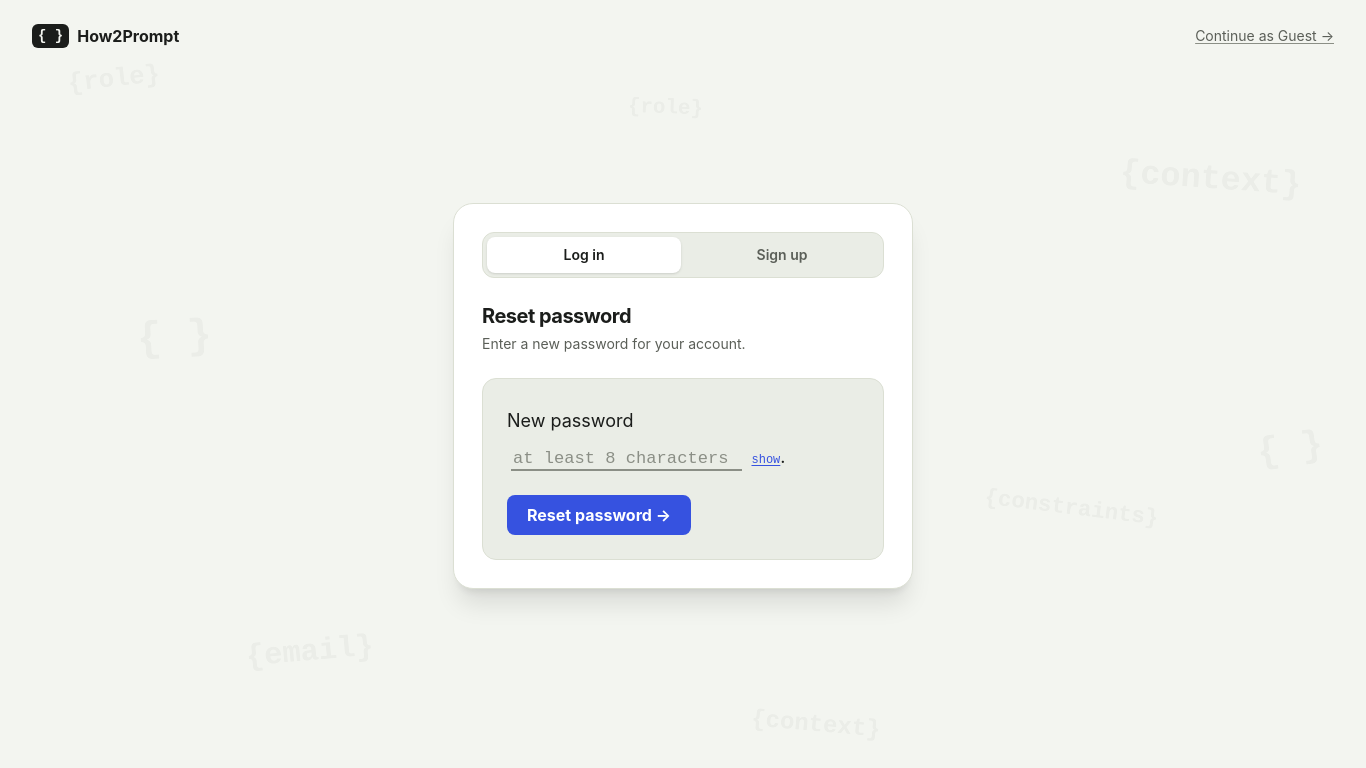
Scenario: ResetPasswordPage › resets the password with a valid token and redirects to /login with a success message
Step 1. Type "newpassword123" into the password field with placeholder "at least 8 characters" → (627, 460), box [511,448,742,471]
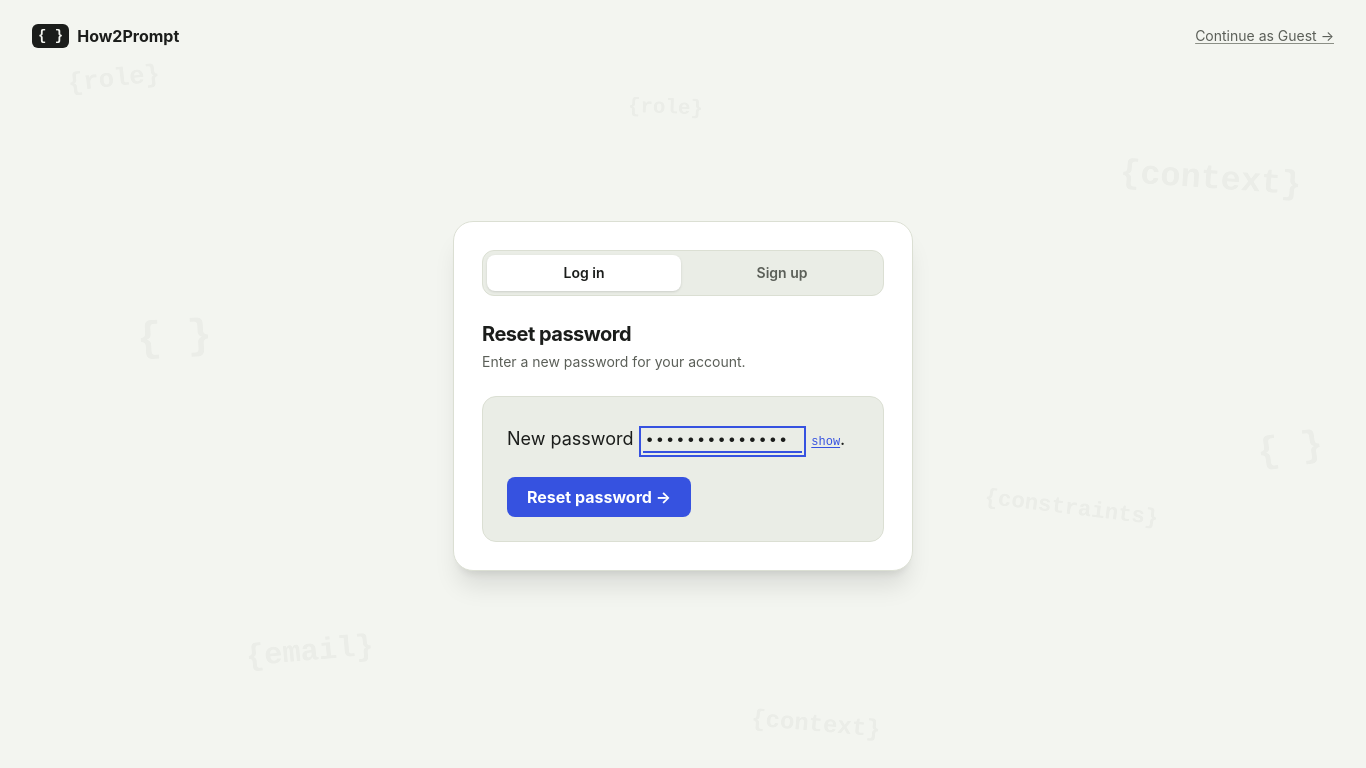
Step 2. Click the button "Reset password →" → (599, 497), box [507,477,691,517]
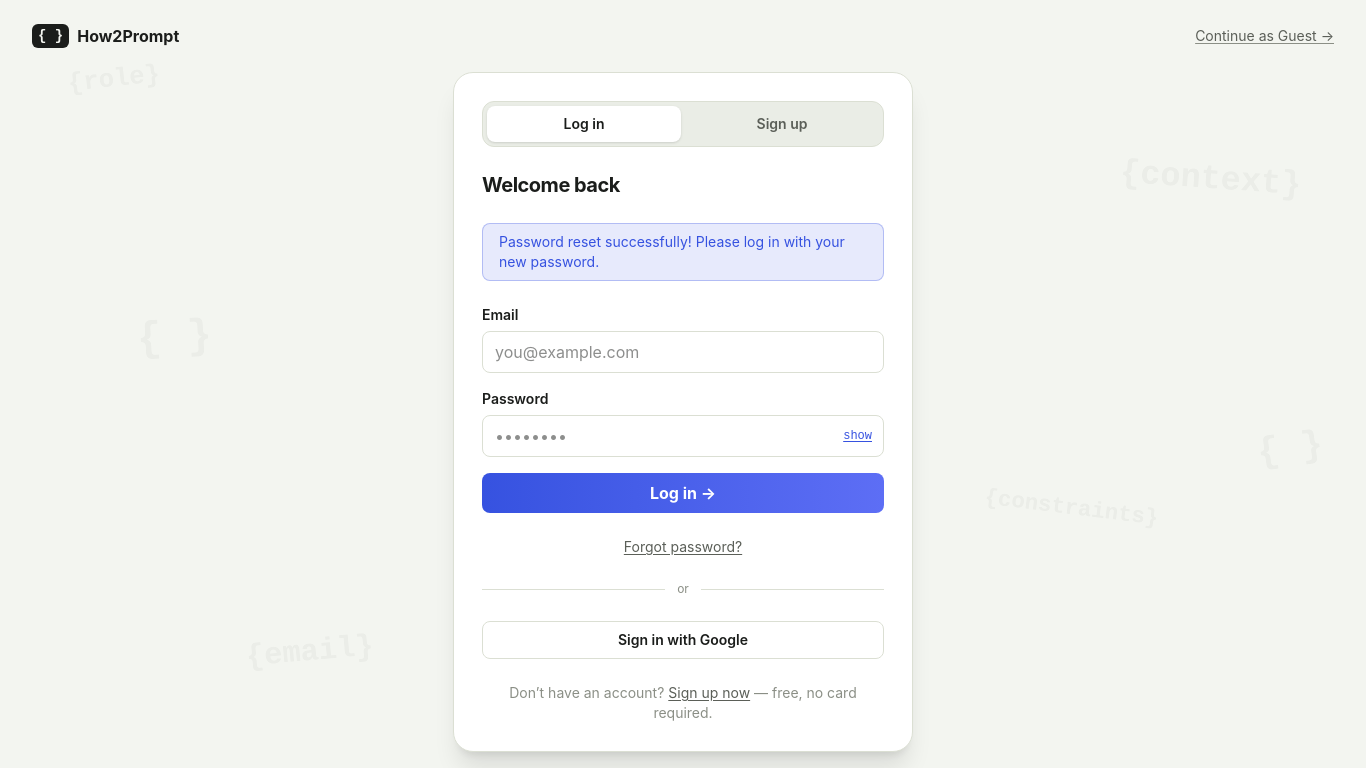
Check: the message shows "Password reset successfully", box [499,233,845,270]
